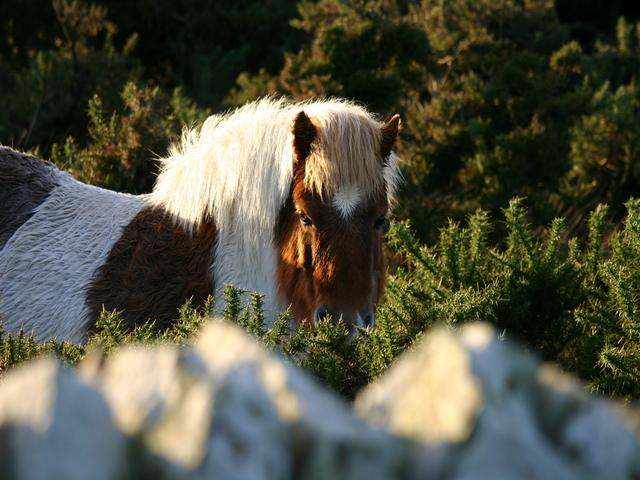horse: (67, 79, 432, 350)
